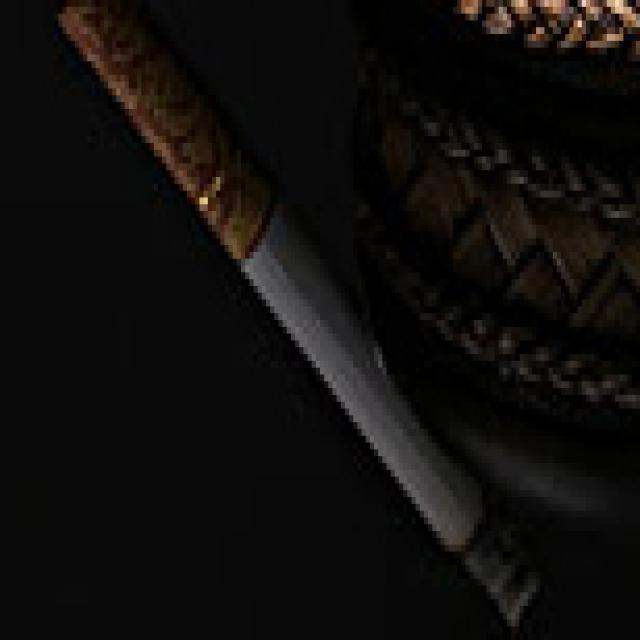smoking: (59, 6, 536, 621)
